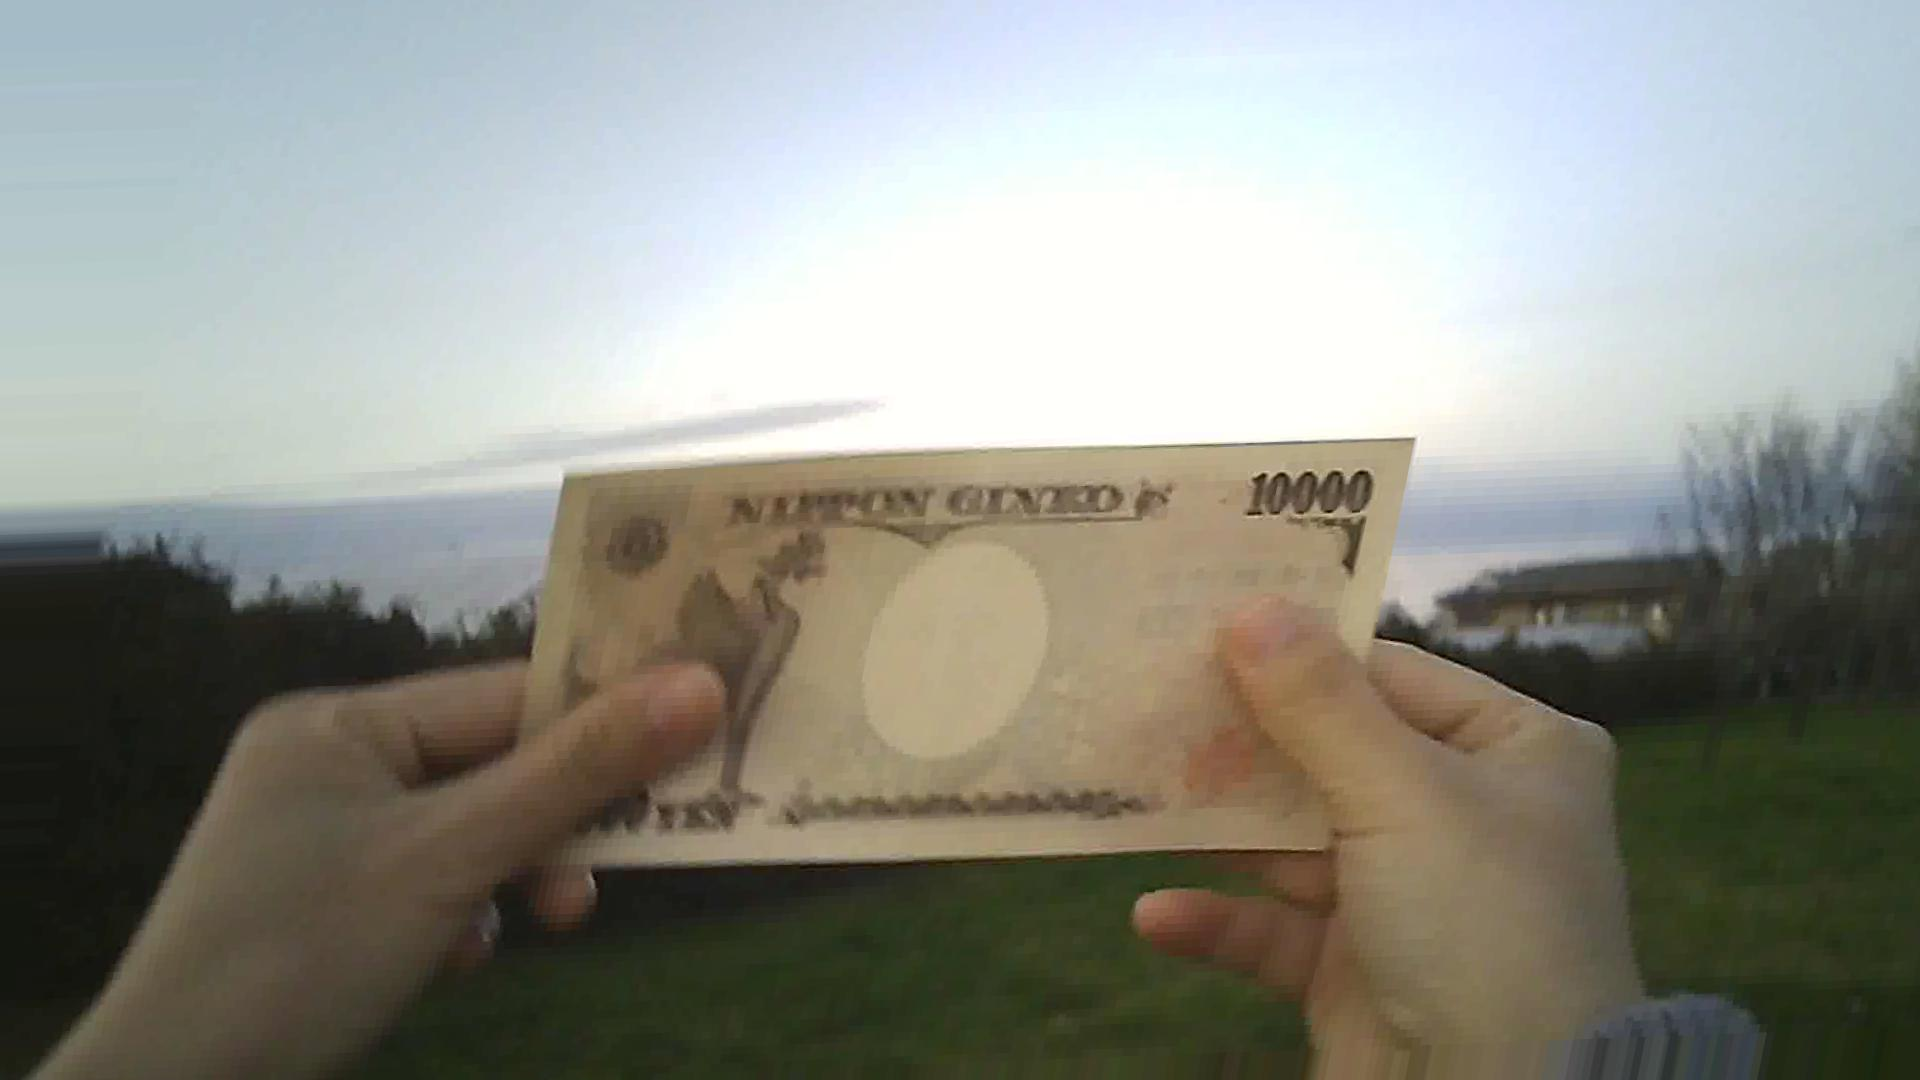10,000 Yen: (501, 407, 1416, 870)
